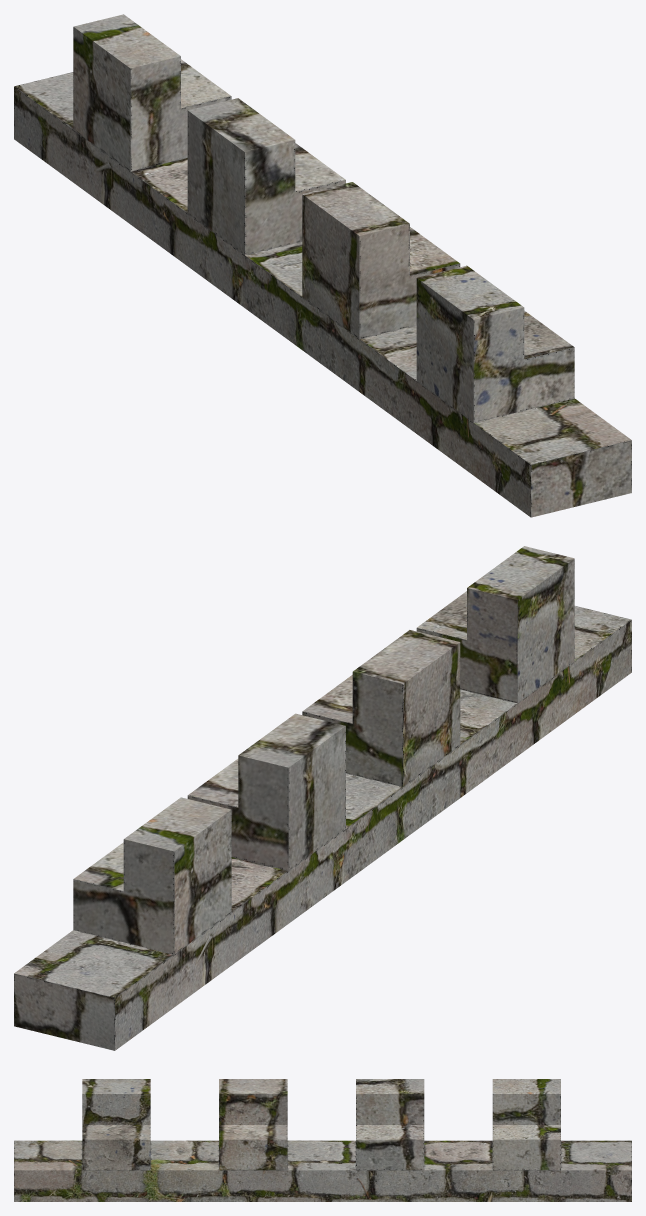
Rendered from Wall.fbx.
3 renders of one model, top to bottom at view 1: azimuth 30°, elevation 25°; view 2: azimuth 150°, elevation 25°; view 3: azimuth 270°, elevation 25°, orthographic. The views are drawn at different scales.
Parts seen in each view (by area): view 1: pCube1; view 2: pCube1; view 3: pCube1.
Part boxes in pixels (left/top/right/bottom): pCube1: left=14, top=14, right=631, bottom=517; pCube1: left=14, top=546, right=631, bottom=1050; pCube1: left=14, top=1079, right=631, bottom=1201.
Size of the model in its own units: 1 by 1.48 by 8.87.
Materials: 1 (1 with a texture image).
